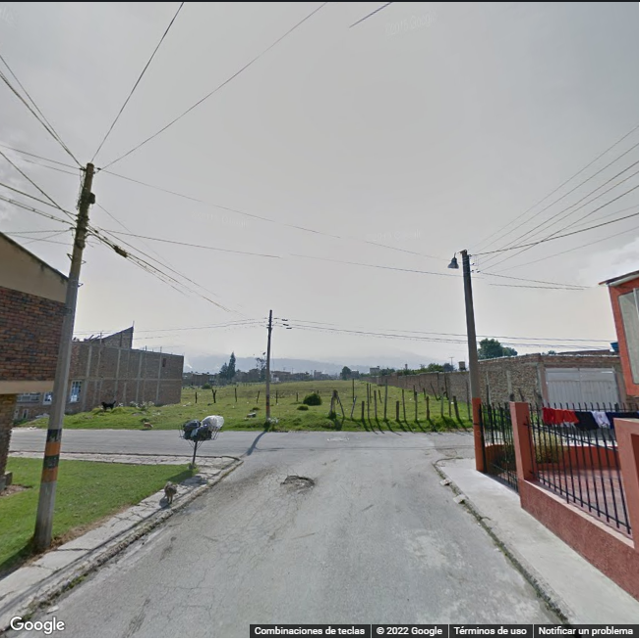D00: (195, 551, 223, 591)
D10: (168, 607, 214, 610)
D40: (278, 465, 316, 501)
